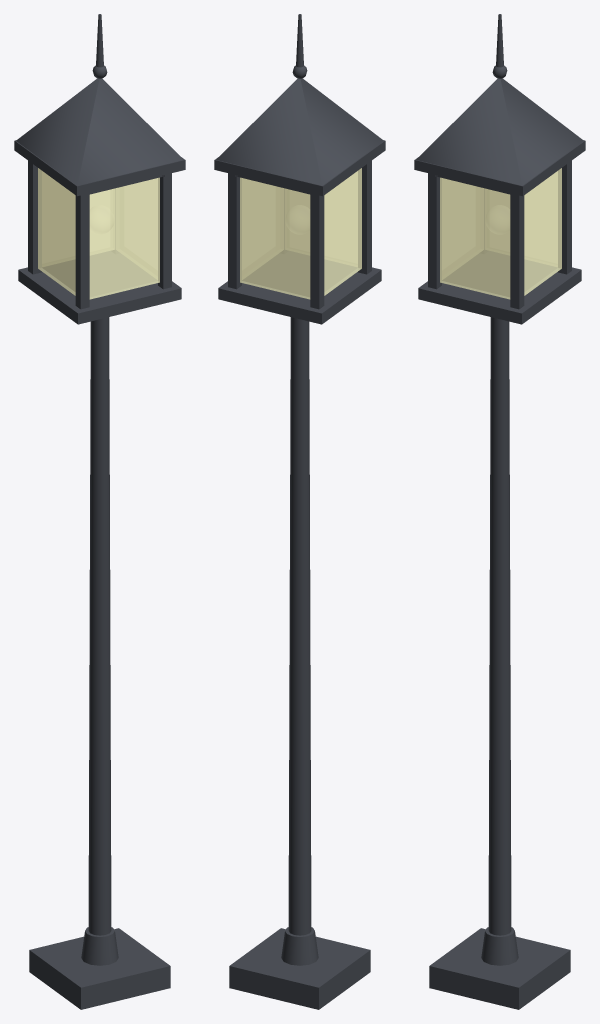
The model's file is lamppost.glb.
The picture shows the model from 3 angles, left to right: view 1: azimuth 30°, elevation 25°; view 2: azimuth 150°, elevation 25°; view 3: azimuth 330°, elevation 25°; orthographic projection.
Visible parts, largest first — view 1: post_pole, glass (×2), post_roof, post_base, post_lantern_floor, post_corner (×3), post_lantern_cap, post_neck; view 2: post_pole, glass (×2), post_roof, post_base, post_lantern_floor, post_corner (×3), post_lantern_cap, post_neck; view 3: post_pole, glass (×2), post_roof, post_base, post_lantern_floor, post_corner (×3), post_lantern_cap, post_neck.
Part boxes in pixels (left/top/right/bottom): post_pole: left=88, top=317, right=111, bottom=935; glass (×2): left=38, top=168, right=159, bottom=299; post_roof: left=16, top=78, right=183, bottom=185; post_base: left=29, top=928, right=170, bottom=1009; post_lantern_floor: left=18, top=251, right=181, bottom=324; post_corner (×3): left=28, top=160, right=171, bottom=309; post_lantern_cap: left=14, top=140, right=185, bottom=196; post_neck: left=81, top=927, right=118, bottom=965; post_pole: left=288, top=317, right=311, bottom=935; glass (×2): left=240, top=168, right=361, bottom=299; post_roof: left=216, top=78, right=383, bottom=185; post_base: left=229, top=928, right=370, bottom=1009; post_lantern_floor: left=218, top=251, right=381, bottom=324; post_corner (×3): left=228, top=160, right=371, bottom=309; post_lantern_cap: left=214, top=140, right=385, bottom=196; post_neck: left=281, top=927, right=318, bottom=965; post_pole: left=488, top=317, right=511, bottom=935; glass (×2): left=440, top=168, right=561, bottom=299; post_roof: left=416, top=78, right=583, bottom=185; post_base: left=429, top=928, right=570, bottom=1009; post_lantern_floor: left=418, top=251, right=581, bottom=324; post_corner (×3): left=428, top=160, right=571, bottom=309; post_lantern_cap: left=414, top=140, right=585, bottom=196; post_neck: left=481, top=927, right=518, bottom=965.
Size of the model in its own units: 0.46 by 3.91 by 0.46.
